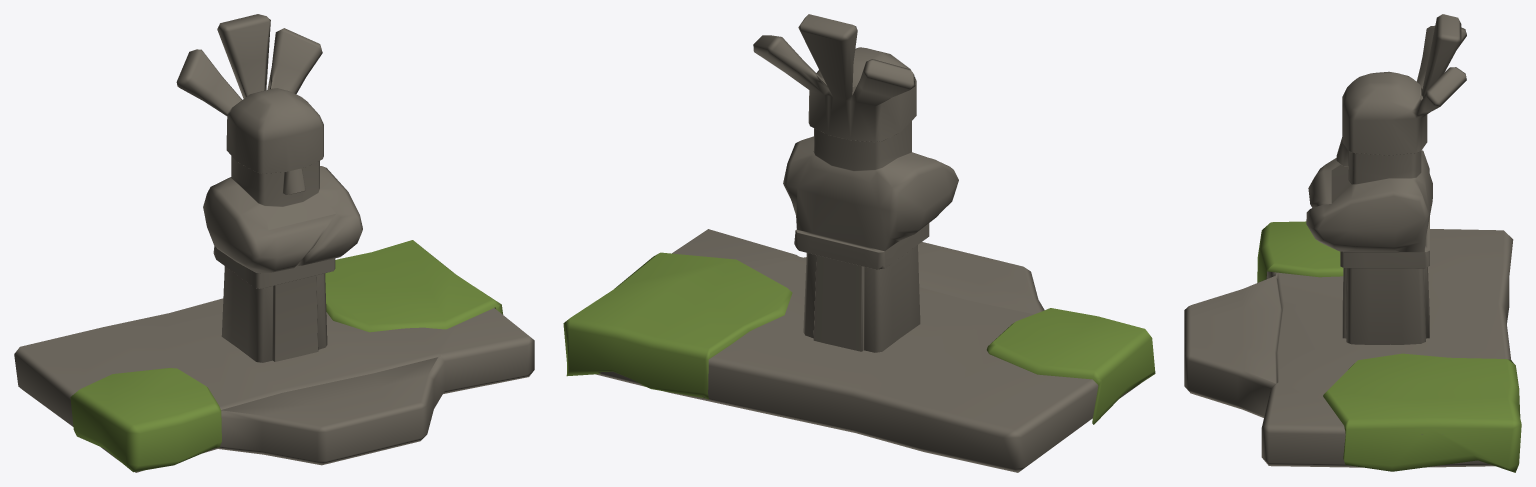
The model's file is MSH_Shrine.fbx.
3 views of the same model, side by side, from view 1: azimuth 30°, elevation 25°; view 2: azimuth 150°, elevation 25°; view 3: azimuth 270°, elevation 25° (orthographic). The views are drawn at different scales.
Visible parts, largest first — view 1: MSH_Shrine_base_B, MSH_Shrine_statue, MSH_Shrine_grass_01, MSH_Shrine_grass_02; view 2: MSH_Shrine_base_B, MSH_Shrine_statue, MSH_Shrine_grass_02, MSH_Shrine_grass_01; view 3: MSH_Shrine_base_B, MSH_Shrine_statue, MSH_Shrine_grass_02, MSH_Shrine_grass_01.
Part boxes in pixels (x1,y1,x2,y2): MSH_Shrine_base_B: (14,298,534,472); MSH_Shrine_statue: (176,14,362,362); MSH_Shrine_grass_01: (70,368,221,472); MSH_Shrine_grass_02: (325,240,503,332); MSH_Shrine_base_B: (596,229,1140,472); MSH_Shrine_statue: (753,14,958,352); MSH_Shrine_grass_02: (563,252,792,399); MSH_Shrine_grass_01: (986,308,1155,424); MSH_Shrine_base_B: (1184,229,1513,467); MSH_Shrine_statue: (1306,14,1466,344); MSH_Shrine_grass_02: (1323,353,1521,472); MSH_Shrine_grass_01: (1257,221,1343,282).
Size of the model in its own units: 10.89 by 8.52 by 7.46.
